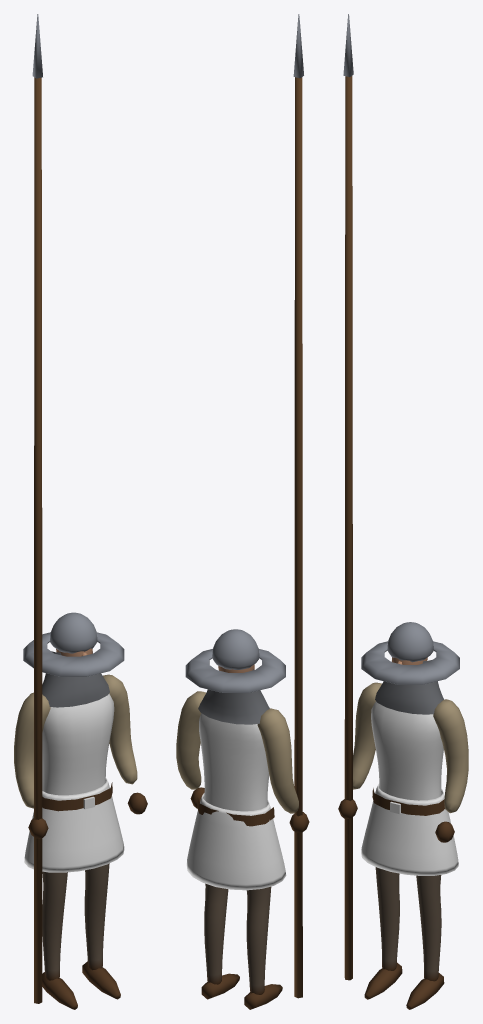
File: infantry_1.glb
3 renders of one model, left to right at view 1: azimuth 30°, elevation 25°; view 2: azimuth 150°, elevation 25°; view 3: azimuth 330°, elevation 25°, orthographic. The views are drawn at different scales.
Visible parts, largest first — view 1: infantry_1; view 2: infantry_1; view 3: infantry_1.
Boxes of the visible parts, box(x1,y1,x2,y2) form: infantry_1: box(14, 14, 147, 1009); infantry_1: box(176, 14, 309, 1009); infantry_1: box(338, 14, 468, 1009).
Size of the model in its own units: 0.5764 by 4.79 by 0.4406.
